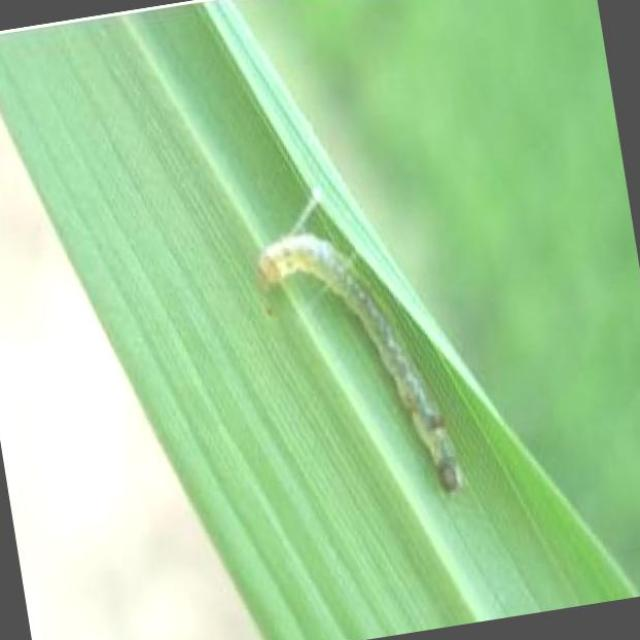leaf folder: (259, 189, 462, 492)
